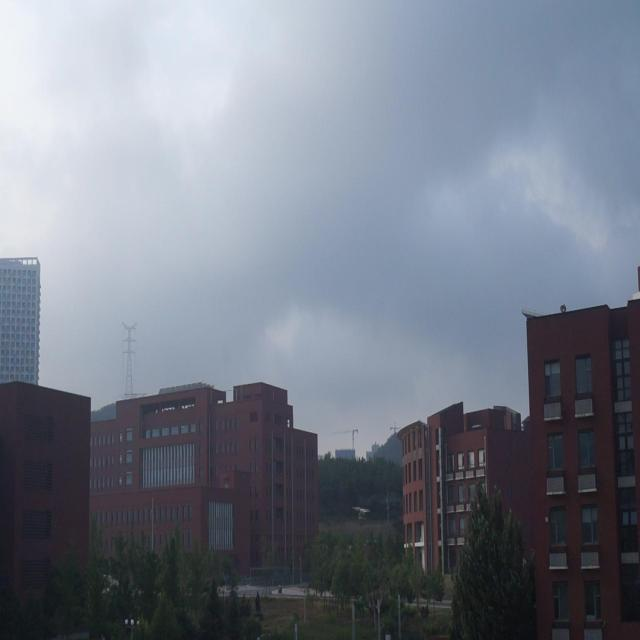drone: (350, 500, 370, 524)
